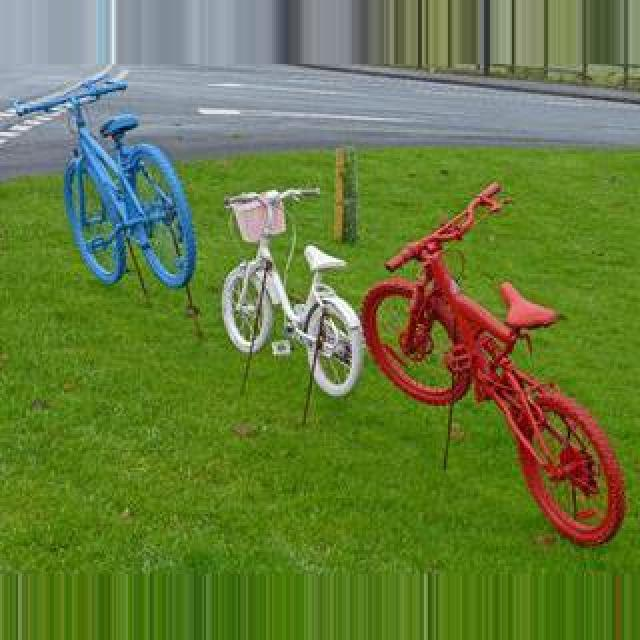Person: (357, 185, 625, 561), (7, 75, 197, 307), (219, 186, 365, 404)
